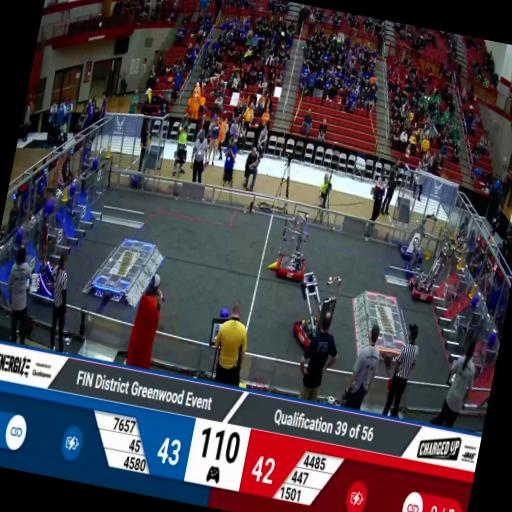robot: (24, 208, 82, 309), (406, 222, 470, 311), (287, 264, 344, 354), (270, 208, 315, 281), (402, 223, 449, 285), (396, 204, 438, 264)
